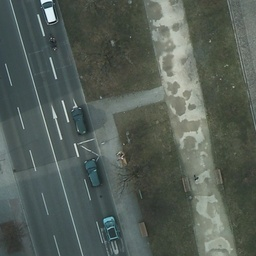car: (84, 158, 103, 188), (70, 105, 88, 136), (103, 216, 120, 243), (41, 0, 58, 25)
